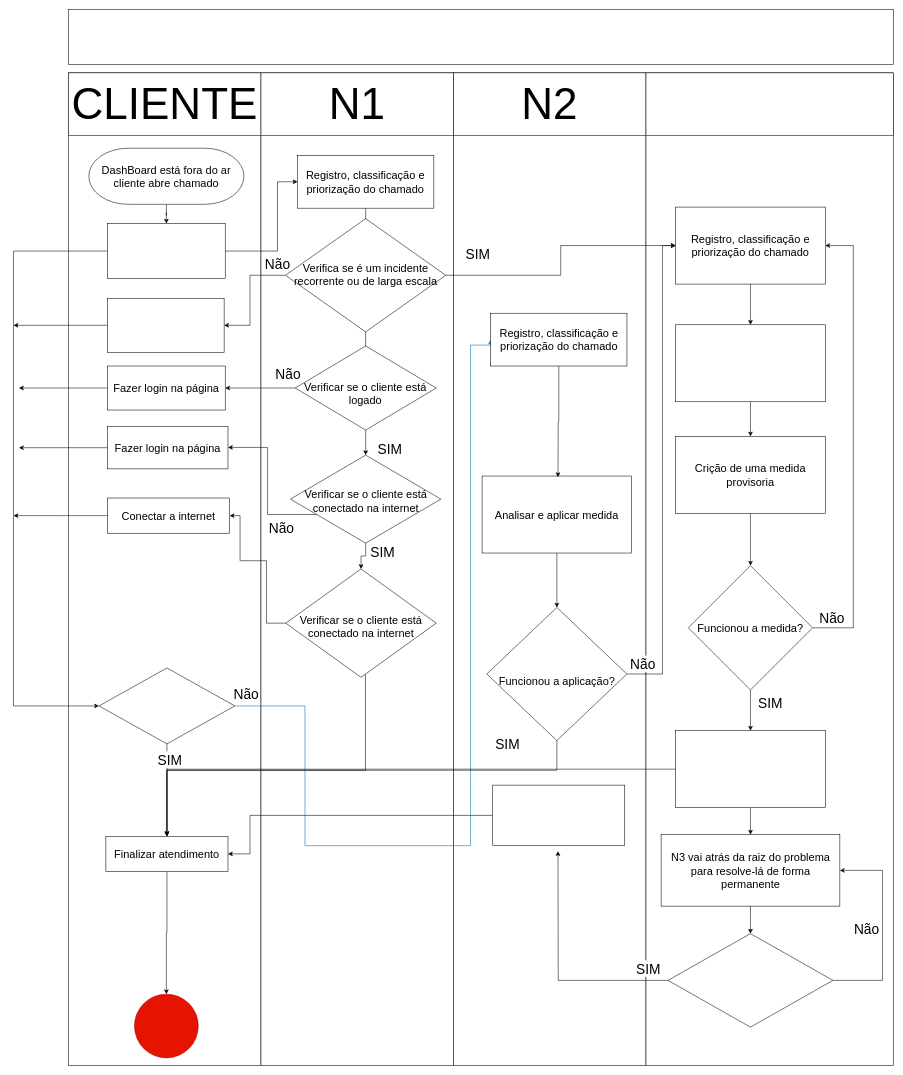
Some shapes in this 903 by 1075 pixel diagram are drawn without their labels. Here are the shapes that lost their labels. From the top down, the centre of each, then its label:
At (480,37): "PROBLEMA".
At (769,104): "N3".
At (166,251): "Abre o chamado".
At (165,325): "Fazer o cadastro no site".
At (750,363): "Analise tecnica do incidente".
At (166,705): "Funcionou?".
At (750,769): "Catalogar no banco de conhecimento".
At (558,815): "É Documentado e catalagado na base de conhecimento".
At (750,980): "Encontrou e resolveu o problema?".
At (166,1026): "FIM".
